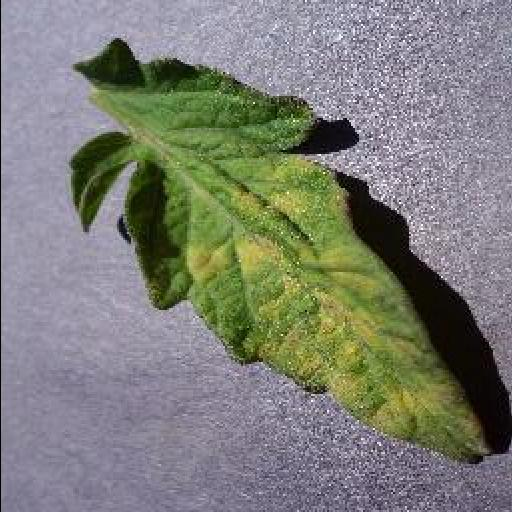disease_tomato: (60, 36, 496, 466)
